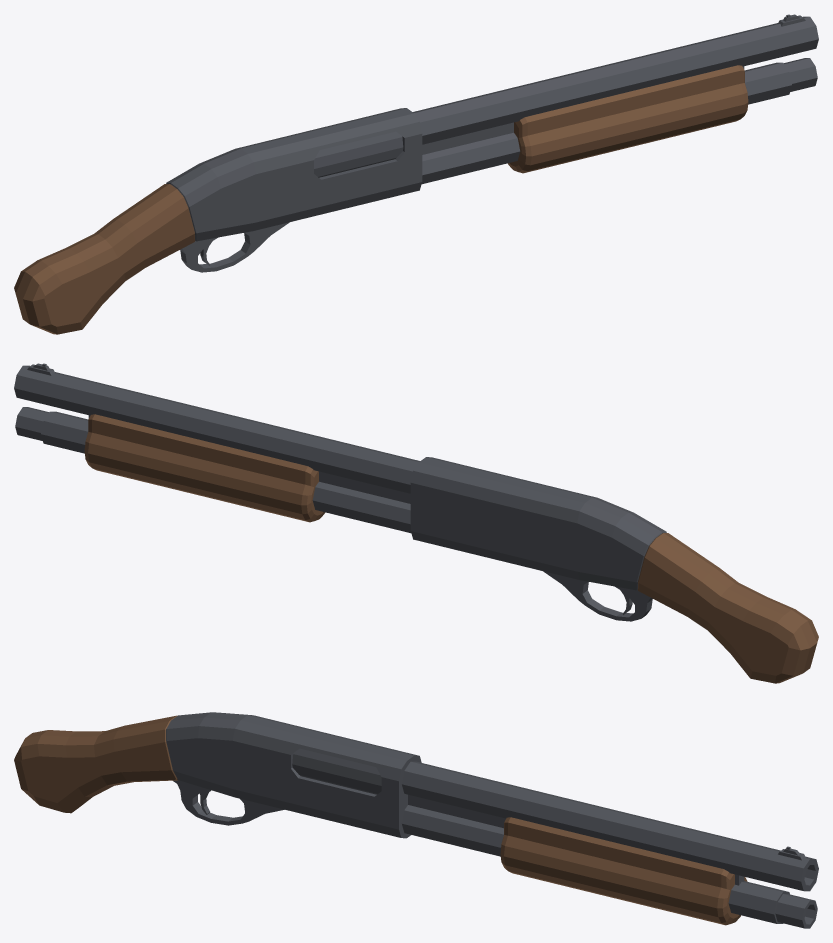
Rendered from LowPolyShotgun.fbx.
3 renders of one model, top to bottom at view 1: azimuth 30°, elevation 25°; view 2: azimuth 150°, elevation 25°; view 3: azimuth 330°, elevation 25°, orthographic.
Parts seen in each view (by area): view 1: Cube.001_Cube.017; view 2: Cube.001_Cube.017; view 3: Cube.001_Cube.017.
Part boxes in pixels (<box>): Cube.001_Cube.017: <box>14,14,818,334</box>; Cube.001_Cube.017: <box>14,363,818,683</box>; Cube.001_Cube.017: <box>14,712,818,928</box>.
Size of the model in its own units: 4.99 by 0.8283 by 0.3034.
